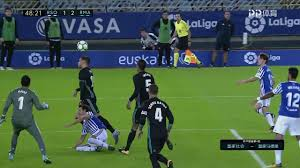fall: (60, 99, 122, 153)
